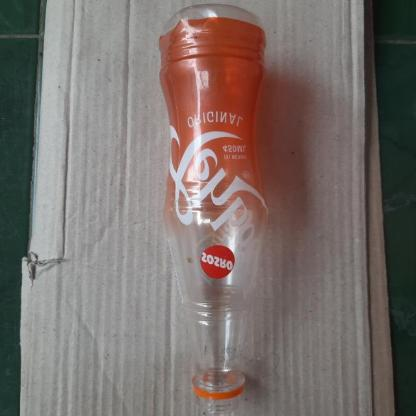Plastic Bottle: (126, 0, 294, 393)
